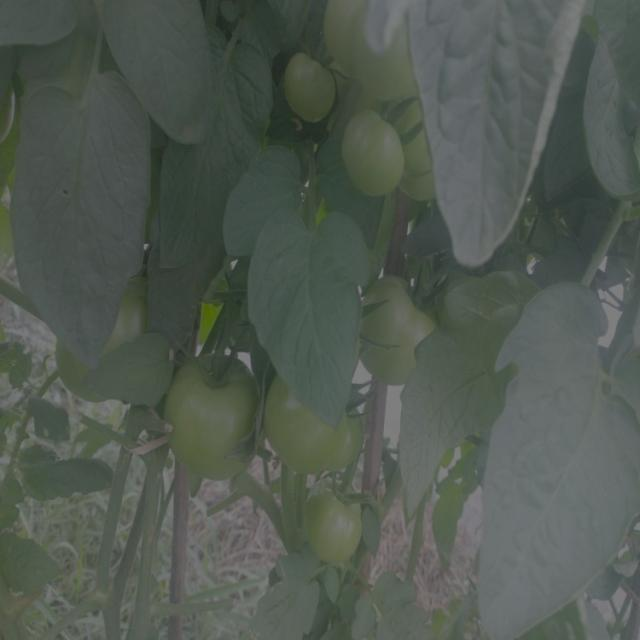tomato: (168, 354, 254, 477), (59, 283, 145, 392), (275, 373, 371, 467), (366, 269, 439, 381), (343, 1, 424, 95), (296, 478, 374, 574), (343, 108, 400, 199), (401, 101, 445, 207), (278, 43, 338, 120)
